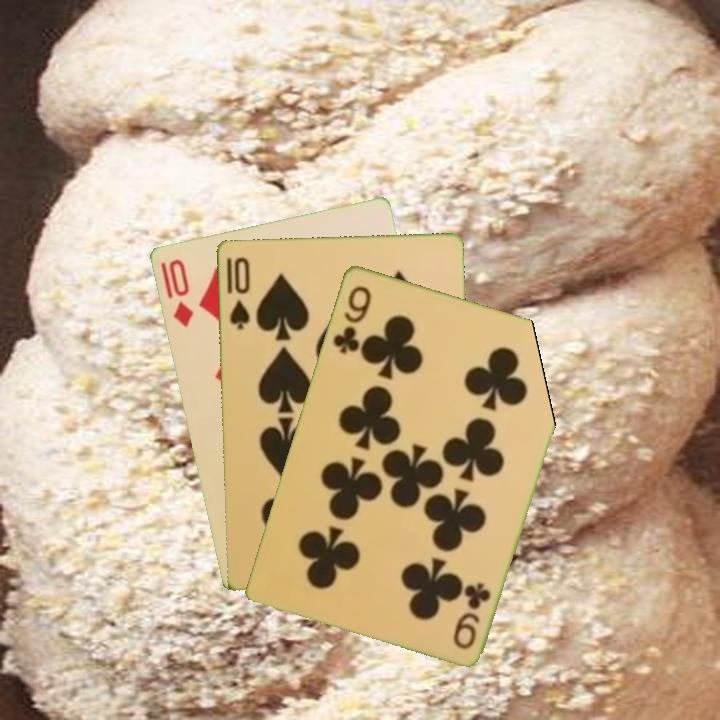10d: (164, 255, 196, 330)
10s: (225, 253, 253, 332)
9c: (329, 281, 374, 356), (449, 578, 493, 652)
